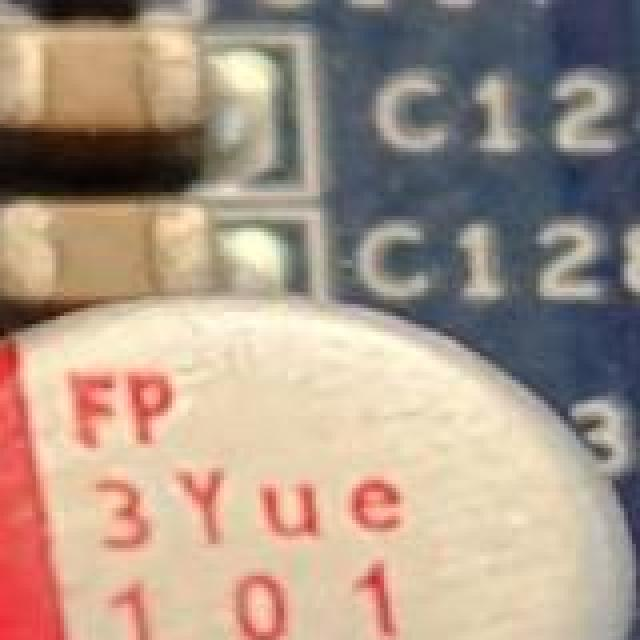capacitor: (0, 284, 636, 640), (0, 28, 252, 176), (0, 196, 232, 300)
